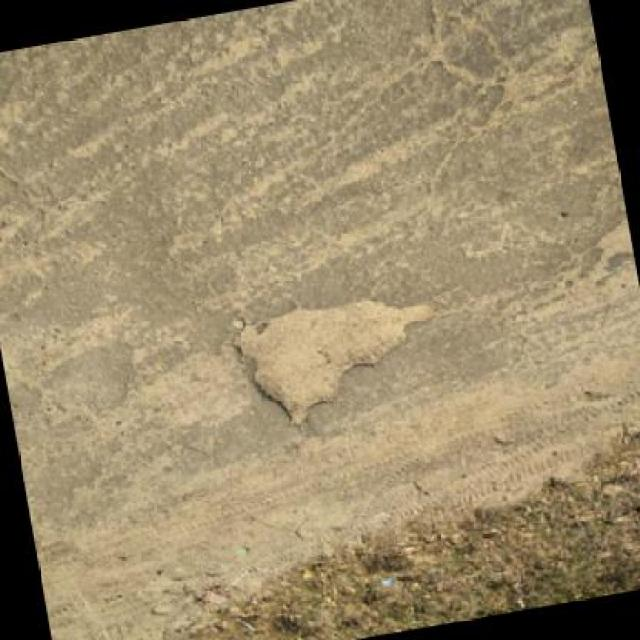pothole1: (225, 280, 452, 442)
